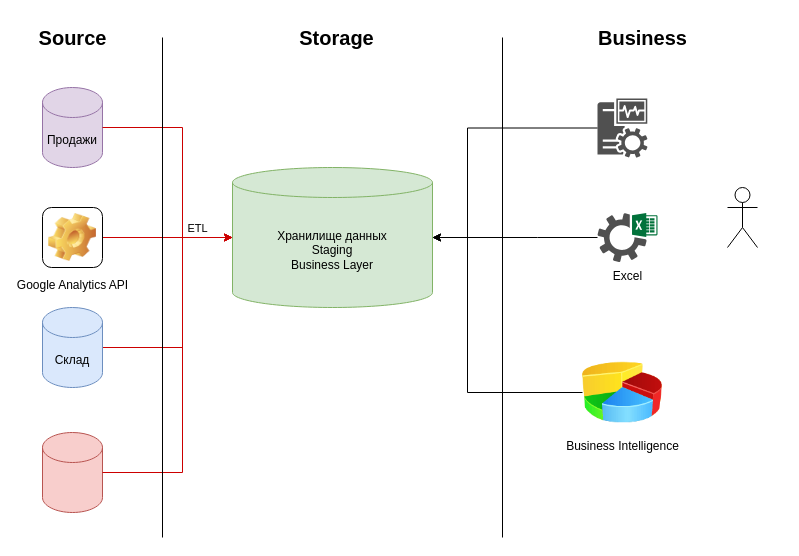
The diagram is 799 pixels wide and 556 high, and some of its shapes have lost their labels. The shapes that lost their labels are listed below. From the top down, each one's centre as x and y in pixels, then its label:
pixel 622 127: SQL
pixel 742 217: Пользователь
pixel 72 472: CRM
